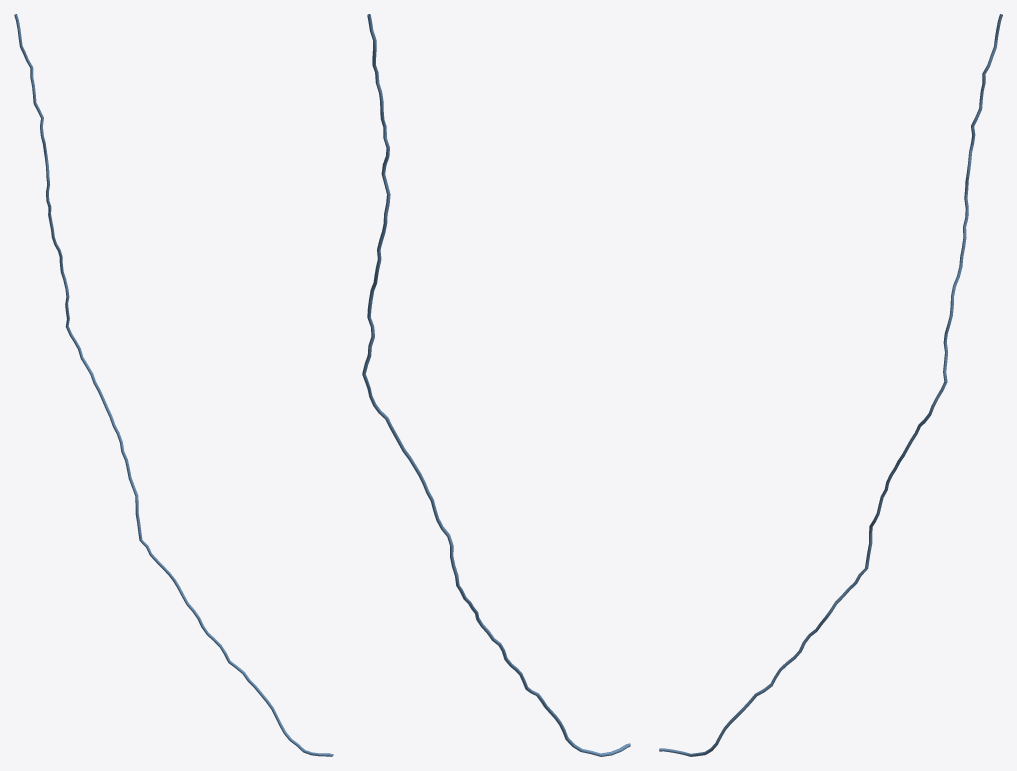
The model's file is sweep329.fbx.
3 views of the same model, side by side, from view 1: azimuth 90°, elevation 25°; view 2: azimuth 150°, elevation 25°; view 3: azimuth 270°, elevation 25° (orthographic). The views are drawn at different scales.
Visible parts, largest first — view 1: sweep329; view 2: sweep329; view 3: sweep329.
Part boxes in pixels (left/top/right/bottom): sweep329: left=14, top=14, right=333, bottom=756; sweep329: left=362, top=14, right=630, bottom=756; sweep329: left=659, top=14, right=1002, bottom=756.
Size of the model in its own units: 0.6797 by 5.03 by 2.04.
